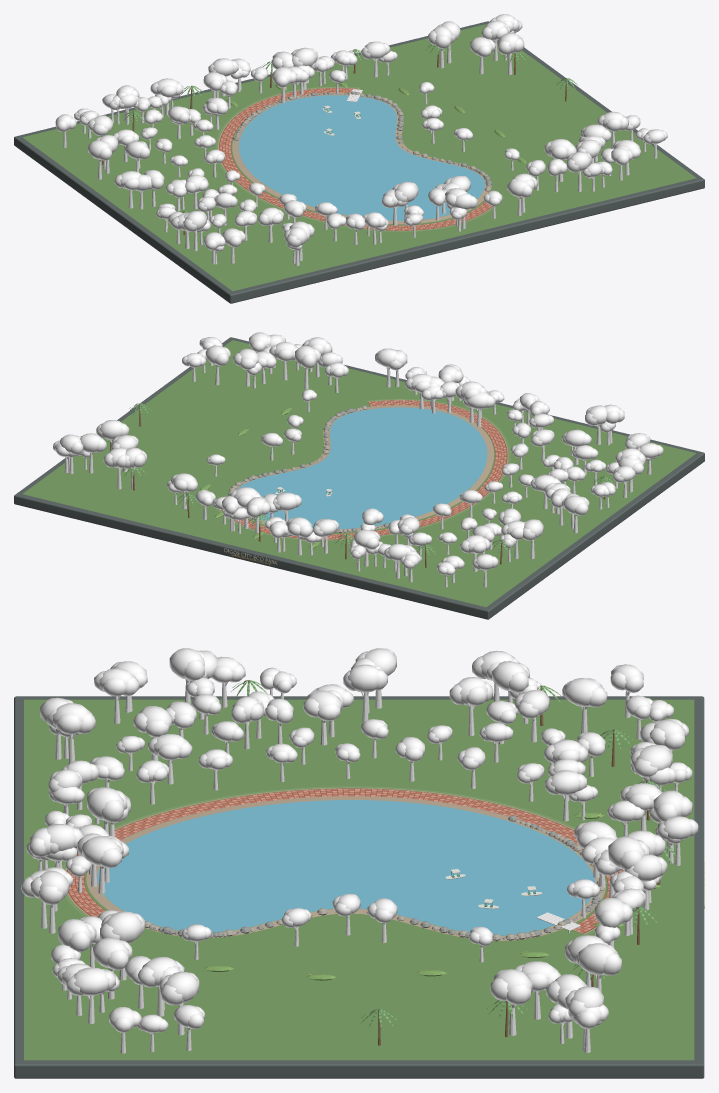
The model's file is ecopark.glb.
3 renders of one model, top to bottom at view 1: azimuth 30°, elevation 25°; view 2: azimuth 150°, elevation 25°; view 3: azimuth 270°, elevation 25°, orthographic. The views are drawn at different scales.
Visible parts, largest first — view 1: Rolling tropical park terrain, Central freshwater lake, Square cut terrain base, Individual terracotta walkway pavers, Curving brick promenade subbase, Natural lake edge, Curved garden lawn strip, Forest canopy 013, Forest canopy 070, Forest canopy 045, Forest canopy 043, Forest canopy 092 (+11 smaller); view 2: Rolling tropical park terrain, Central freshwater lake, Square cut terrain base, Individual terracotta walkway pavers, Natural lake edge, Curving brick promenade subbase, Curved garden lawn strip, Forest canopy 070, Forest canopy 033, Forest canopy 012, Forest canopy 013, Forest canopy 052 (+13 smaller); view 3: Rolling tropical park terrain, Central freshwater lake, Square cut terrain base, Individual terracotta walkway pavers, Natural lake edge, Curving brick promenade subbase, Forest canopy 013, Forest canopy 087, Forest canopy 049, Forest canopy 014, Curved garden lawn strip, Forest canopy 062 (+49 smaller).
Boxes of the visible parts, x1=… form: Rolling tropical park terrain: x1=22, y1=24, x2=696, y2=291; Central freshwater lake: x1=239, y1=95, x2=484, y2=220; Square cut terrain base: x1=14, y1=21, x2=704, y2=303; Individual terracotta walkway pavers: x1=219, y1=88, x2=491, y2=230; Curving brick promenade subbase: x1=219, y1=88, x2=492, y2=230; Natural lake edge: x1=232, y1=92, x2=491, y2=224; Curved garden lawn strip: x1=215, y1=86, x2=504, y2=231; Forest canopy 013: x1=498, y1=33, x2=524, y2=74; Forest canopy 070: x1=544, y1=139, x2=576, y2=181; Forest canopy 045: x1=150, y1=78, x2=183, y2=115; Forest canopy 043: x1=597, y1=111, x2=628, y2=148; Forest canopy 092: x1=428, y1=26, x2=452, y2=68; Rolling tropical park terrain: x1=22, y1=340, x2=696, y2=606; Central freshwater lake: x1=237, y1=407, x2=487, y2=529; Square cut terrain base: x1=14, y1=337, x2=704, y2=619; Individual terracotta walkway pavers: x1=235, y1=400, x2=506, y2=538; Natural lake edge: x1=235, y1=405, x2=494, y2=532; Curving brick promenade subbase: x1=221, y1=400, x2=507, y2=539; Curved garden lawn strip: x1=216, y1=398, x2=510, y2=540; Forest canopy 070: x1=295, y1=345, x2=320, y2=389; Forest canopy 033: x1=286, y1=517, x2=312, y2=555; Forest canopy 012: x1=563, y1=495, x2=589, y2=533; Forest canopy 013: x1=96, y1=420, x2=129, y2=450; Forest canopy 052: x1=80, y1=433, x2=106, y2=473; Rolling tropical park terrain: x1=24, y1=699, x2=694, y2=1060; Central freshwater lake: x1=97, y1=800, x2=595, y2=935; Square cut terrain base: x1=14, y1=696, x2=704, y2=1078; Individual terracotta walkway pavers: x1=67, y1=789, x2=622, y2=932; Natural lake edge: x1=86, y1=796, x2=605, y2=940; Curving brick promenade subbase: x1=66, y1=788, x2=622, y2=933; Forest canopy 013: x1=490, y1=969, x2=532, y2=1035; Forest canopy 087: x1=47, y1=703, x2=95, y2=764; Forest canopy 049: x1=66, y1=967, x2=115, y2=1023; Forest canopy 014: x1=576, y1=943, x2=621, y2=992; Curved garden lawn strip: x1=62, y1=786, x2=594, y2=935; Forest canopy 062: x1=82, y1=836, x2=123, y2=894.
Bounding box in the file's own units: 172 × 17.38 × 136.
